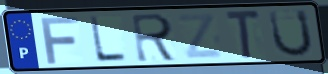F: (38, 15, 81, 65)
L: (87, 15, 129, 64)
R: (130, 11, 180, 64)
T: (223, 9, 263, 62)
U: (267, 8, 316, 59)
Z: (175, 11, 226, 61)
